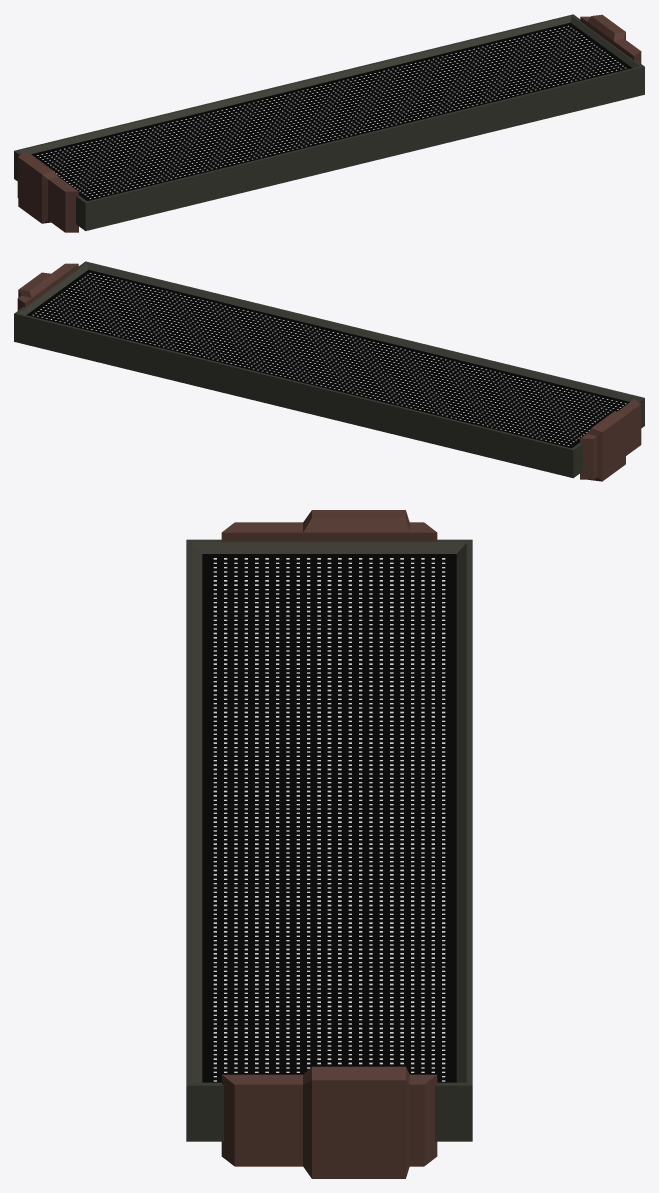
The model's file is timetable_digital_display.fbx.
3 views of the same model, one above another, from view 1: azimuth 30°, elevation 25°; view 2: azimuth 150°, elevation 25°; view 3: azimuth 270°, elevation 25° (orthographic). The views are drawn at different scales.
Parts seen in each view (by area): view 1: Cube.001, Circle; view 2: Cube.001, Circle; view 3: Cube.001, Circle.
Boxes of the visible parts, x1,y1,x2,y2 form: Cube.001: (14, 14, 644, 232); Circle: (37, 25, 626, 198); Cube.001: (14, 261, 644, 481); Circle: (32, 273, 626, 445); Cube.001: (186, 510, 472, 1178); Circle: (213, 558, 445, 1081).
Bounding box in the file's own units: 542 × 46.53 × 115.
